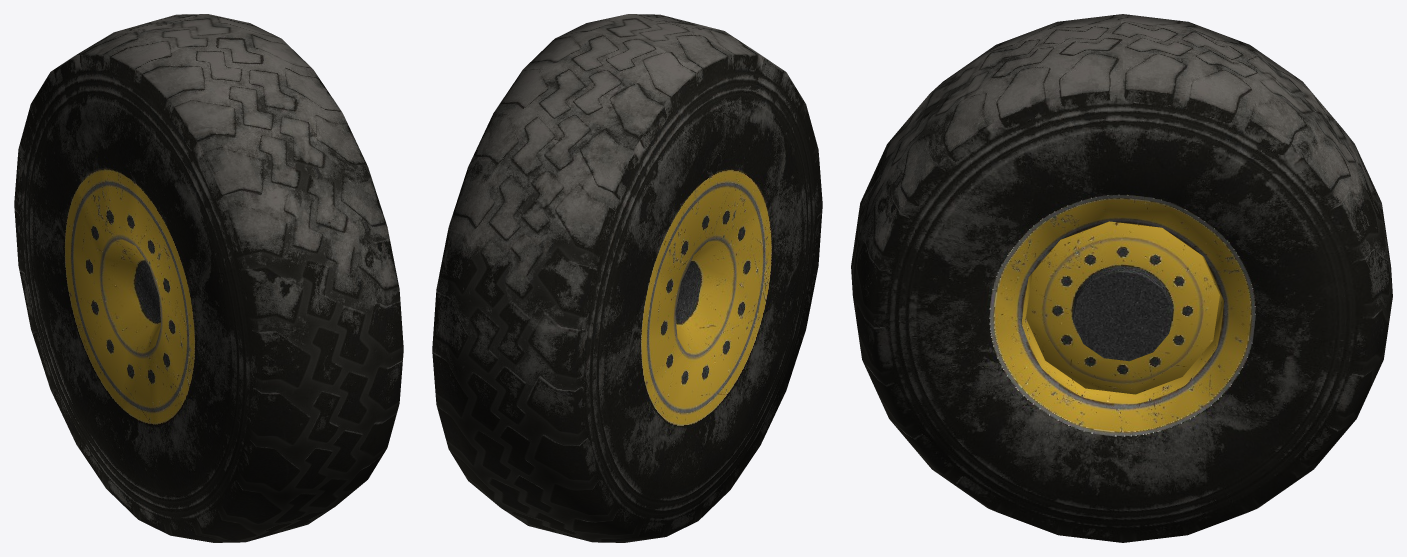
File: MANKat_Wheel.fbx
The picture shows the model from 3 angles, left to right: view 1: azimuth 30°, elevation 25°; view 2: azimuth 150°, elevation 25°; view 3: azimuth 270°, elevation 25°; orthographic projection. The views are drawn at different scales.
Parts seen in each view (by area): view 1: Wheel_low; view 2: Wheel_low; view 3: Wheel_low.
Part boxes in pixels (left/top/right/bottom): Wheel_low: left=14, top=14, right=403, bottom=542; Wheel_low: left=432, top=14, right=822, bottom=542; Wheel_low: left=851, top=14, right=1392, bottom=542.
Bounding box in the file's own units: 0.3257 × 0.9533 × 0.9534.
1 material, 1 textured.
